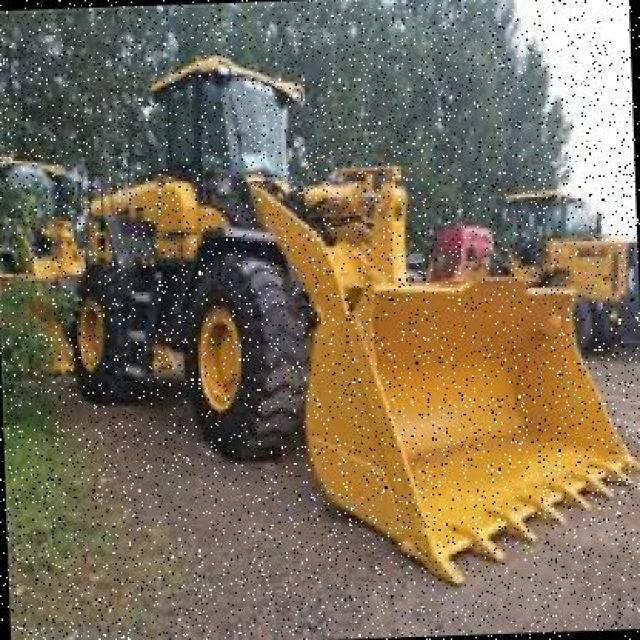buldozerpayloadergrader: (51, 34, 640, 598)
